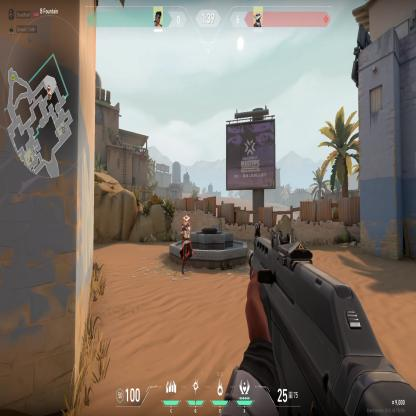enemy: (179, 213, 194, 277)
